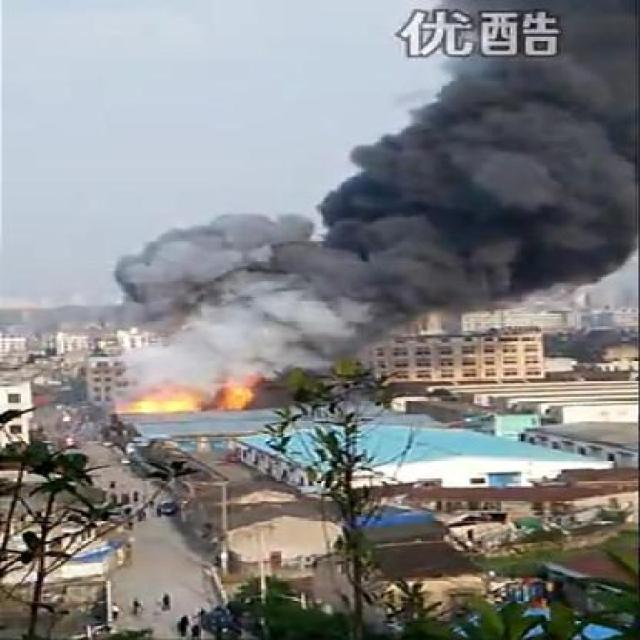Fire: (128, 374, 264, 418)
Smoke: (114, 0, 640, 375)
